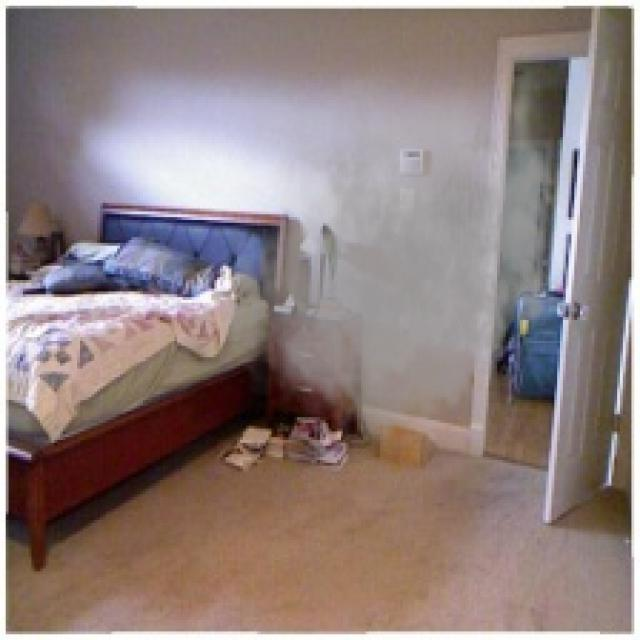smoke: (214, 54, 572, 454)
